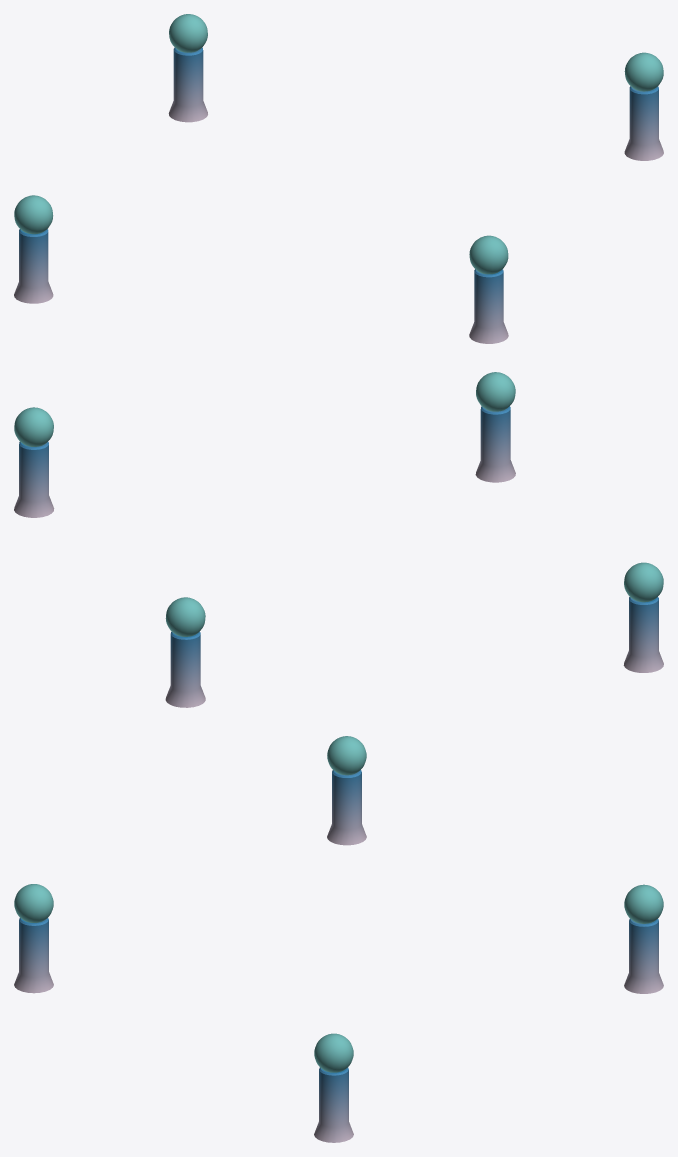
Rendered from Butterfly Orbs Textured.fbx.
The picture shows the model from 3 angles, top to bottom: view 1: azimuth 30°, elevation 25°; view 2: azimuth 150°, elevation 25°; view 3: azimuth 270°, elevation 25°; orthographic projection. The views are drawn at different scales.
Parts seen in each view (by area): view 1: Butterfly_Orbs; view 2: Butterfly_Orbs; view 3: Butterfly_Orbs.
Part boxes in pixels (x1=…): Butterfly_Orbs: x1=14, y1=14, x2=663, y2=343; Butterfly_Orbs: x1=14, y1=372, x2=663, y2=707; Butterfly_Orbs: x1=14, y1=736, x2=663, y2=1142.
Bounding box in the file's own units: 1110 × 163 × 970.
Materials: 1 (1 with a texture image).
